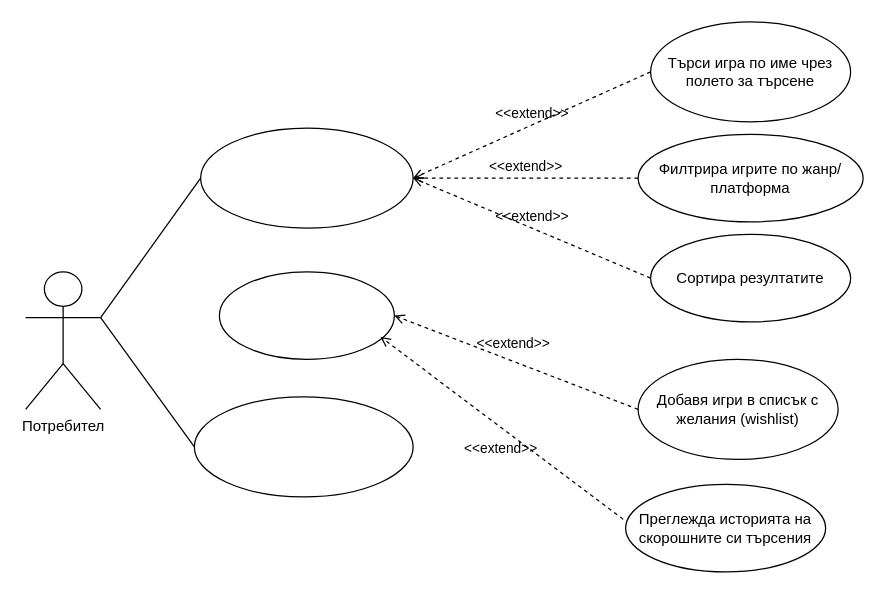
The diagram is 885 pixels wide and 594 high, and some of its shapes have lost their labels. The shapes that lost their labels are listed below. From the top down, each one's centre as x and y in pixels, then its label:
At pixel 306 177: "Разглежда списък с игри".
At pixel 306 315: "Създава акаунт".
At pixel 303 446: "Превключва визуалната тема (Dark/Light mode)".
